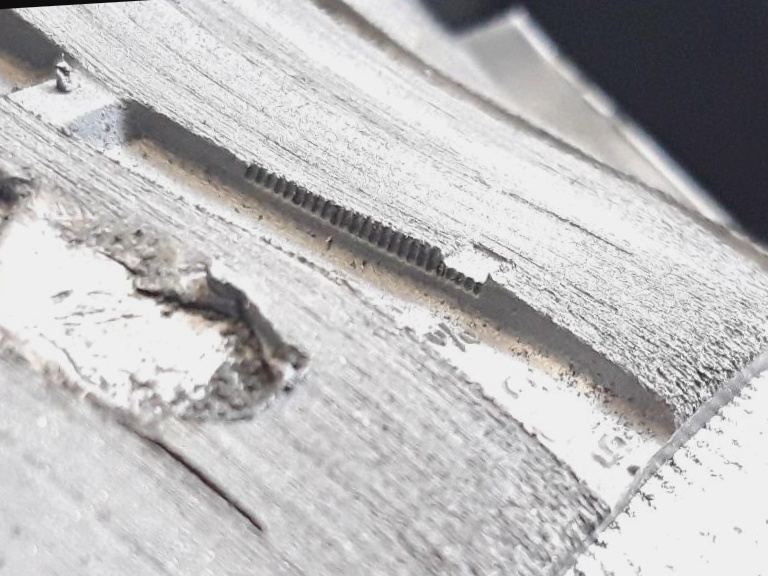temoin:0: (401, 206, 521, 314)
